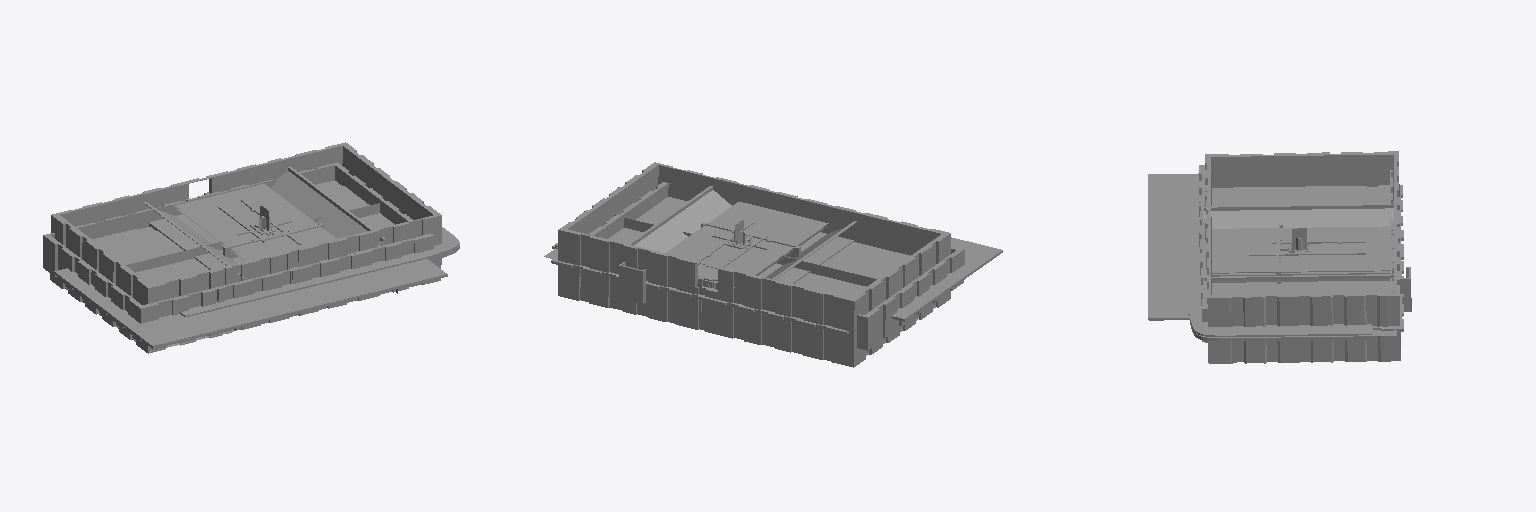
Rendered from buildingYunny2.obj.
3 renders of one model, left to right at view 1: azimuth 30°, elevation 25°; view 2: azimuth 150°, elevation 25°; view 3: azimuth 270°, elevation 25°, orthographic.
Visible parts, largest first — view 1: object_645, object_92, object_10, object_505, object_615, object_611, object_613, object_617, object_629, object_612, object_642; view 2: object_645, object_92, object_505, object_611, object_613, object_615, object_10, object_617, object_642, object_630, object_612; view 3: object_645, object_10, object_615, object_505, object_612, object_617, object_611, object_92, object_642, object_613, object_506.
Part boxes in pixels (x1,y1,x2,y2): object_645: (50, 142, 441, 353); object_92: (43, 162, 433, 340); object_10: (54, 259, 447, 348); object_505: (106, 186, 458, 317); object_615: (174, 189, 304, 274); object_611: (221, 184, 353, 268); object_613: (271, 166, 385, 247); object_617: (149, 214, 243, 269); object_629: (126, 201, 389, 272); object_612: (144, 202, 245, 278); object_642: (92, 180, 341, 249); object_645: (558, 162, 950, 367); object_92: (589, 182, 964, 350); object_505: (555, 197, 909, 297); object_611: (666, 202, 804, 288); object_613: (628, 186, 731, 252); object_615: (694, 207, 828, 282); object_10: (892, 237, 1002, 321); object_617: (759, 232, 853, 283); object_642: (551, 256, 848, 334); object_630: (614, 215, 876, 286); object_612: (765, 221, 856, 279); object_645: (1205, 151, 1400, 363); object_10: (1148, 173, 1344, 320); object_615: (1205, 226, 1393, 261); object_505: (1189, 197, 1371, 341); object_612: (1204, 204, 1393, 228); object_617: (1212, 271, 1389, 294); object_611: (1205, 259, 1393, 276); object_92: (1199, 165, 1411, 341); object_642: (1345, 185, 1403, 331); object_613: (1204, 274, 1393, 282); object_506: (1192, 326, 1372, 340).
Size of the model in its own units: 7.26 by 1.49 by 4.89.